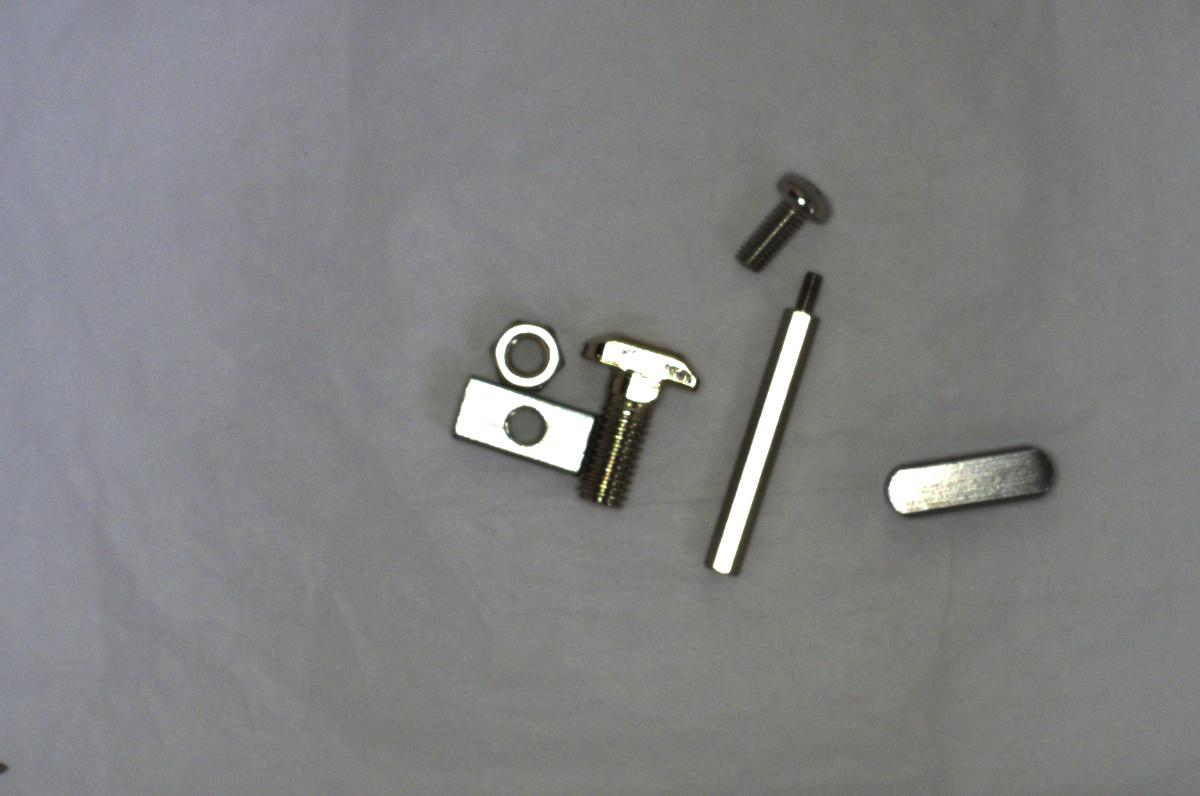Hexagon nut: (485, 313, 571, 394)
Hexagonal steel column: (692, 261, 838, 592)
Keybar: (874, 434, 1067, 520)
Rectangular nut: (448, 370, 598, 479)
Round head screw: (738, 172, 832, 266)
T-shaped screw: (572, 334, 704, 512)
